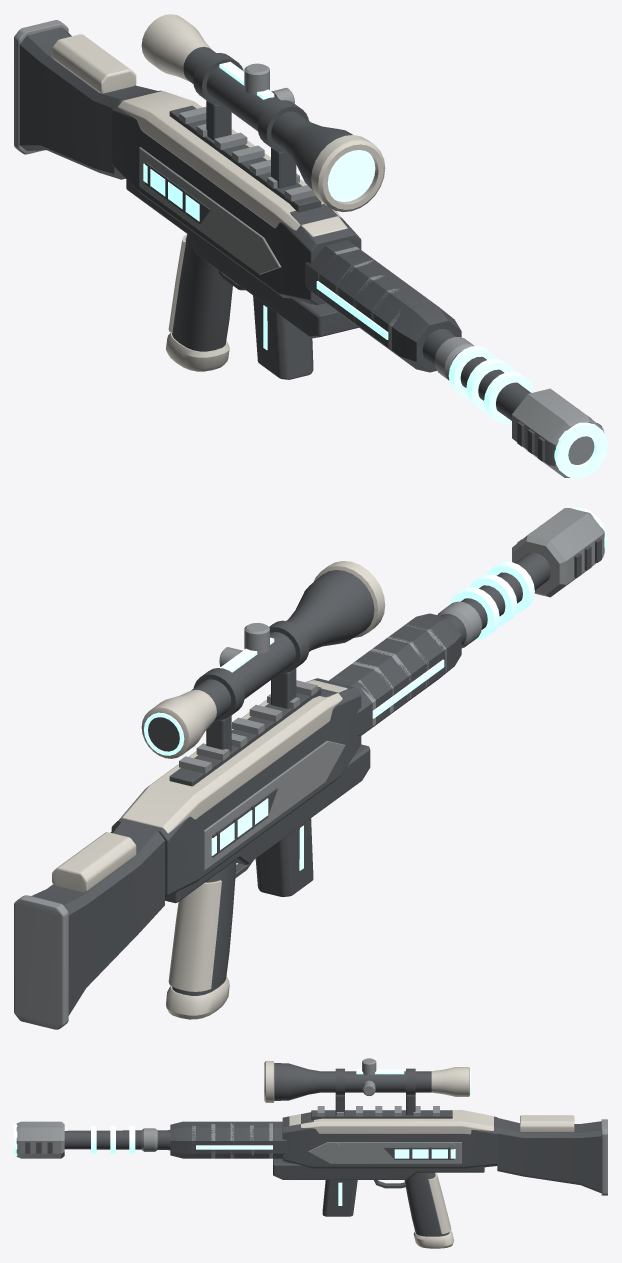
File: LaserSniper.fbx
3 renders of one model, top to bottom at view 1: azimuth 30°, elevation 25°; view 2: azimuth 150°, elevation 25°; view 3: azimuth 270°, elevation 25°, orthographic. The views are drawn at different scales.
Visible parts, largest first — view 1: PrecisionStock, SniperReceiver, SniperHandguard, SniperUpperShell, ScopeTube, PalmGrip, SniperChassis, SniperSidePlate, MuzzleBrake, SniperMagazine, SniperCheekRest, ScopeEyepiece (+18 smaller); view 2: PrecisionStock, SniperReceiver, SniperUpperShell, ScopeTube, SniperHandguard, SniperButtPad, GripPanel, MuzzleBrake, SniperSidePlate, SniperChassis, SniperMagazine, SniperCheekRest (+17 smaller); view 3: PrecisionStock, SniperReceiver, SniperHandguard, SniperUpperShell, ScopeTube, SniperSidePlate.001, SniperChassis, MuzzleBrake, PalmGrip, PrecisionBarrel, SniperMagazine, ScopeEyepiece (+12 smaller).
Part boxes in pixels (bbox=[...]): PrecisionStock: bbox=[19, 27, 157, 179]; SniperReceiver: bbox=[111, 90, 361, 304]; SniperHandguard: bbox=[305, 240, 461, 372]; SniperUpperShell: bbox=[118, 91, 347, 236]; ScopeTube: bbox=[183, 47, 352, 189]; PalmGrip: bbox=[172, 234, 232, 351]; SniperChassis: bbox=[126, 179, 358, 338]; SniperSidePlate: bbox=[139, 147, 281, 274]; MuzzleBrake: bbox=[512, 388, 604, 477]; SniperMagazine: bbox=[253, 295, 313, 379]; SniperCheekRest: bbox=[52, 34, 136, 93]; ScopeEyepiece: bbox=[141, 14, 211, 81]; PrecisionStock: bbox=[31, 822, 164, 1015]; SniperReceiver: bbox=[111, 678, 361, 898]; SniperUpperShell: bbox=[118, 680, 347, 833]; ScopeTube: bbox=[191, 570, 374, 721]; SniperHandguard: bbox=[329, 613, 461, 736]; SniperButtPad: bbox=[14, 895, 68, 1029]; GripPanel: bbox=[168, 880, 221, 991]; MuzzleBrake: bbox=[512, 508, 604, 597]; SniperSidePlate: bbox=[203, 740, 345, 870]; SniperChassis: bbox=[165, 744, 370, 903]; SniperMagazine: bbox=[255, 818, 313, 896]; SniperCheekRest: bbox=[52, 832, 136, 892]; PrecisionStock: bbox=[497, 1118, 601, 1193]; SniperReceiver: bbox=[282, 1112, 497, 1168]; SniperHandguard: bbox=[170, 1121, 287, 1158]; SniperUpperShell: bbox=[289, 1110, 493, 1134]; ScopeTube: bbox=[274, 1063, 431, 1100]; SniperSidePlate.001: bbox=[308, 1142, 461, 1163]; SniperChassis: bbox=[273, 1158, 484, 1179]; MuzzleBrake: bbox=[16, 1121, 64, 1158]; PalmGrip: bbox=[404, 1172, 449, 1236]; PrecisionBarrel: bbox=[64, 1130, 170, 1150]; SniperMagazine: bbox=[322, 1180, 357, 1216]; ScopeEyepiece: bbox=[431, 1067, 469, 1096].
Bounding box in the file's own units: 0.137 × 0.628 × 1.85.
